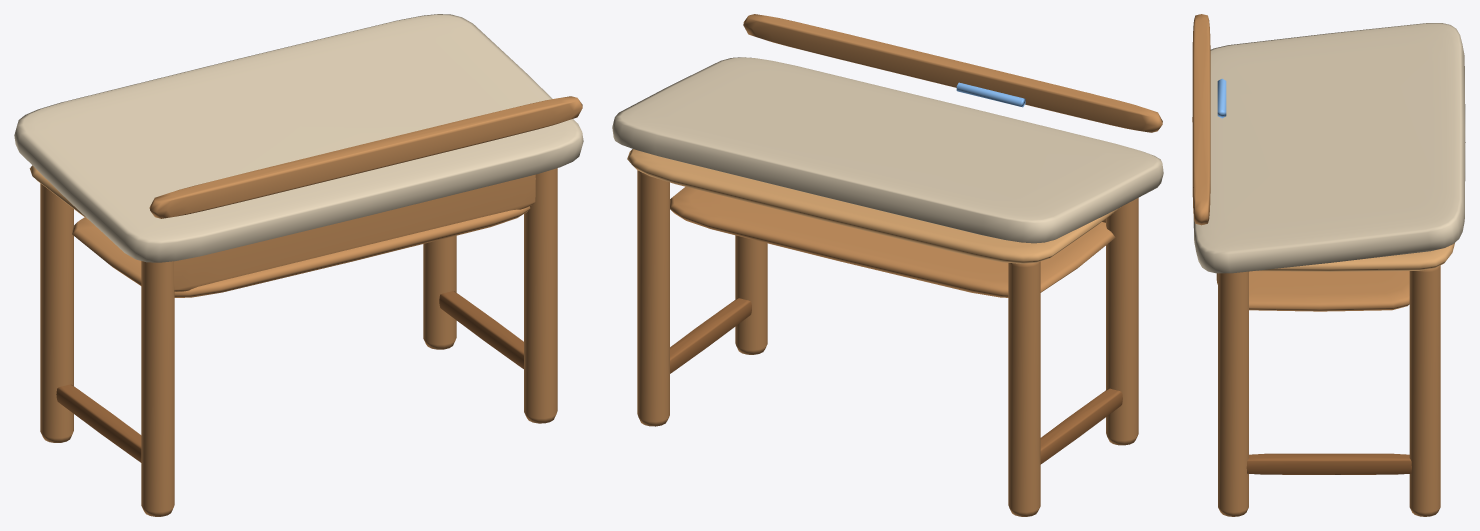
The model's file is desk_student.glb.
The picture shows the model from 3 angles, left to right: view 1: azimuth 30°, elevation 25°; view 2: azimuth 150°, elevation 25°; view 3: azimuth 270°, elevation 25°; orthographic projection. The views are drawn at different scales.
Visible parts, largest first — view 1: desk_student; view 2: desk_student; view 3: desk_student.
Boxes of the visible parts, <box> form: desk_student: <box>14,14,583,516</box>; desk_student: <box>612,14,1163,516</box>; desk_student: <box>1192,14,1465,516</box>.
Bounding box in the file's own units: 1.1 × 0.7641 × 0.5985.
1 material, 1 textured.
